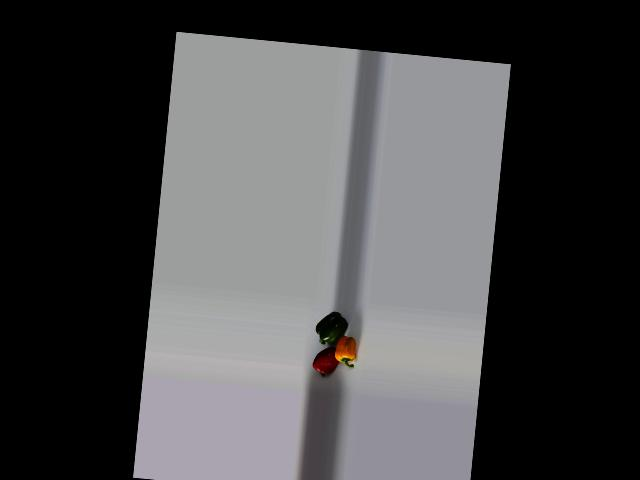bell_pepper: (329, 334, 360, 368)
